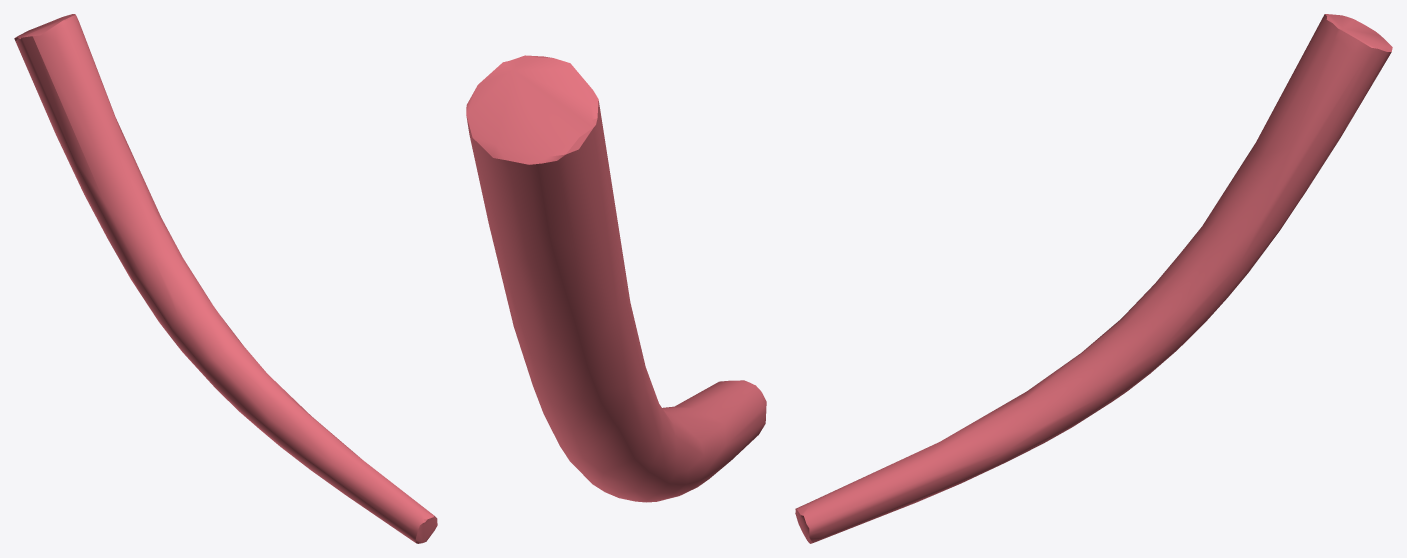
Rendered from fma8640_fj2897.glb.
3 views of the same model, side by side, from view 1: azimuth 30°, elevation 25°; view 2: azimuth 150°, elevation 25°; view 3: azimuth 270°, elevation 25° (orthographic). The views are drawn at different scales.
Visible parts, largest first — view 1: FMA8640_FJ2897; view 2: FMA8640_FJ2897; view 3: FMA8640_FJ2897.
Part boxes in pixels (<box>): FMA8640_FJ2897: <box>14,14,437,543</box>; FMA8640_FJ2897: <box>466,55,766,502</box>; FMA8640_FJ2897: <box>795,14,1392,543</box>.
Size of the model in its own units: 0.0157 by 0.0321 by 0.0386.
